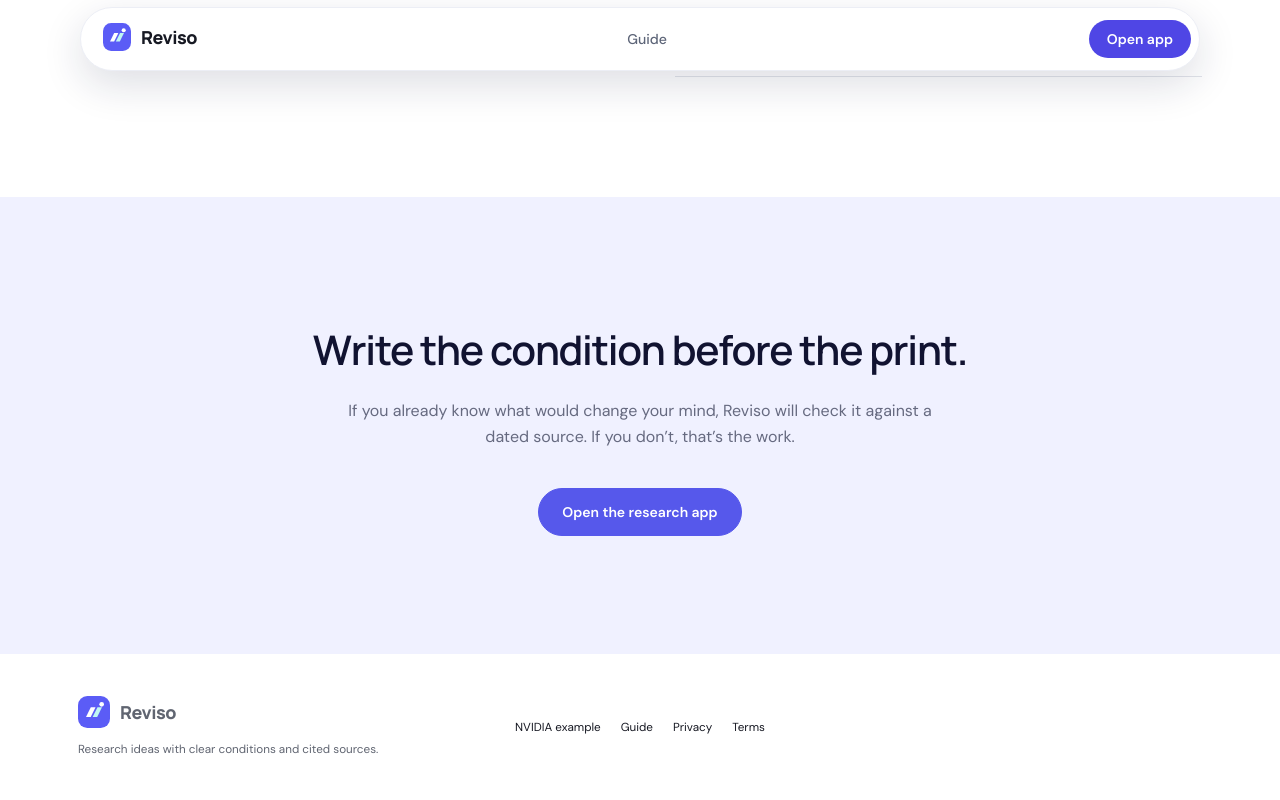
Test case: the footer Guide link opens its page at the top
This screenshot has width=1280, height=800.
(page scrolled)
What coordinates should you click on to do the following:
click the link "Guide" next to "Privacy"
I would click on:
 (637, 727)
Its box is [621,719,653,735].
(page scrolled)
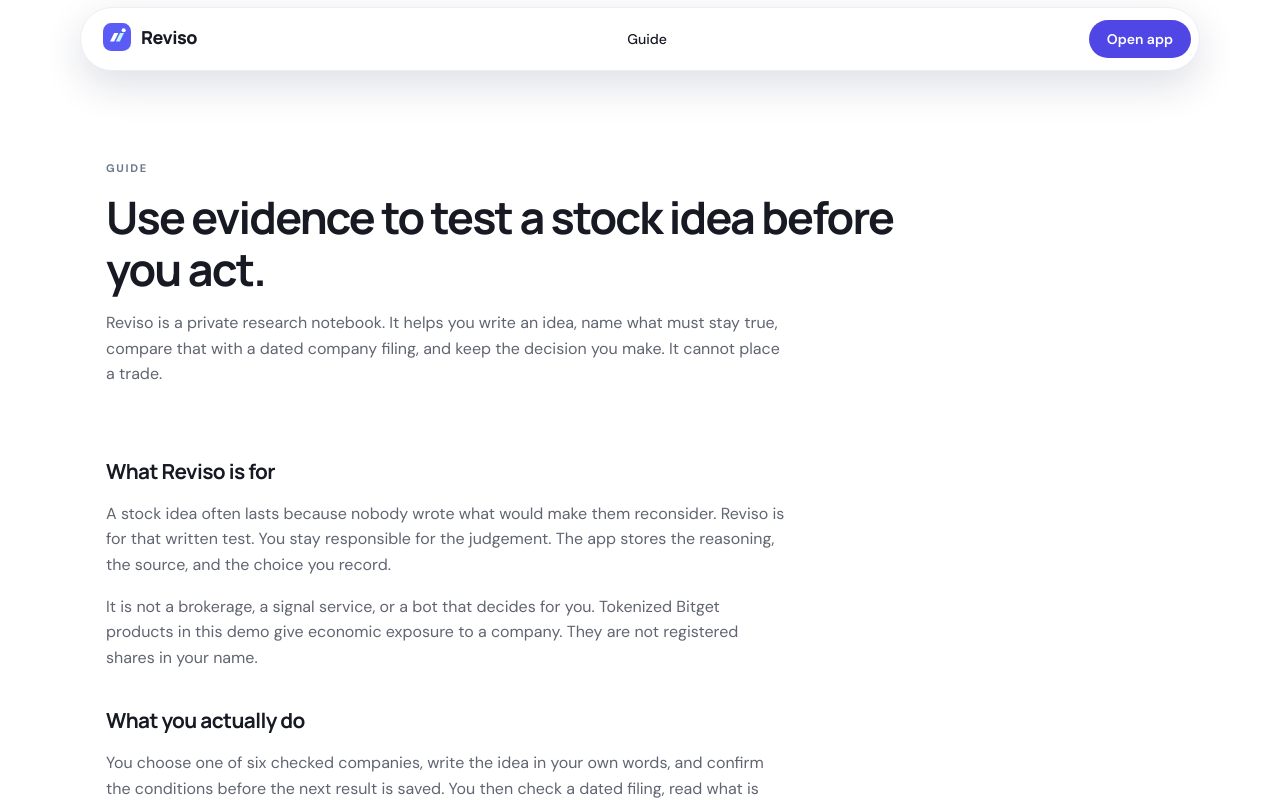
Now the heading "Use evidence to test a stock idea before you act." is shown, box [106,191,926,294]
